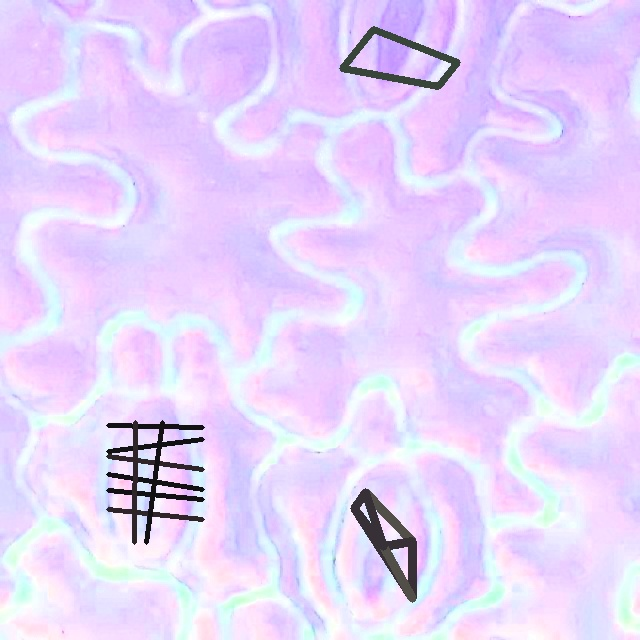close: (107, 421, 203, 543)
open: (339, 26, 460, 89), (350, 489, 416, 602)
